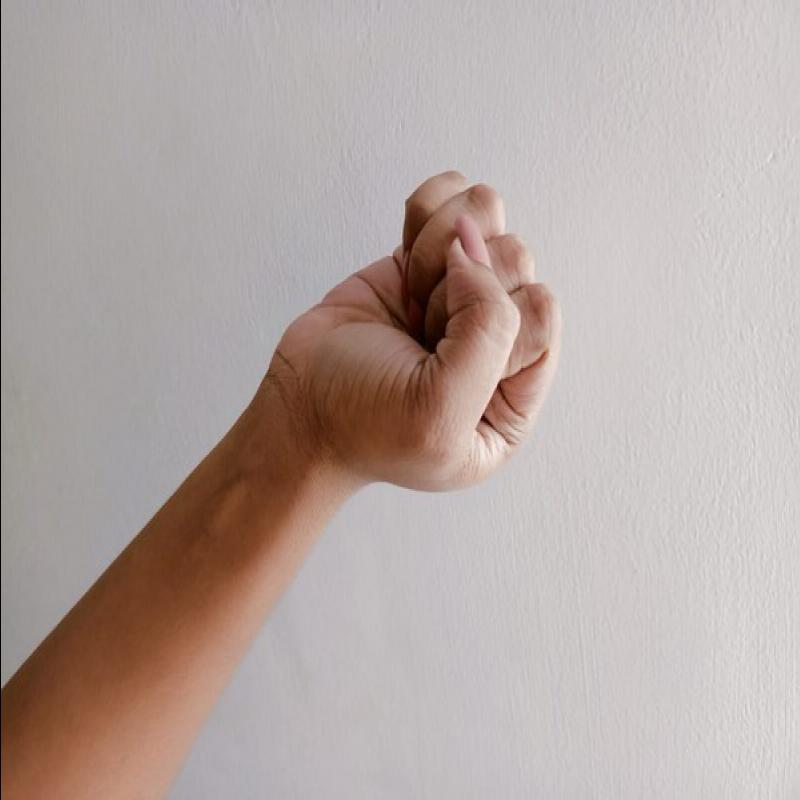Mushti: (260, 149, 578, 509)
